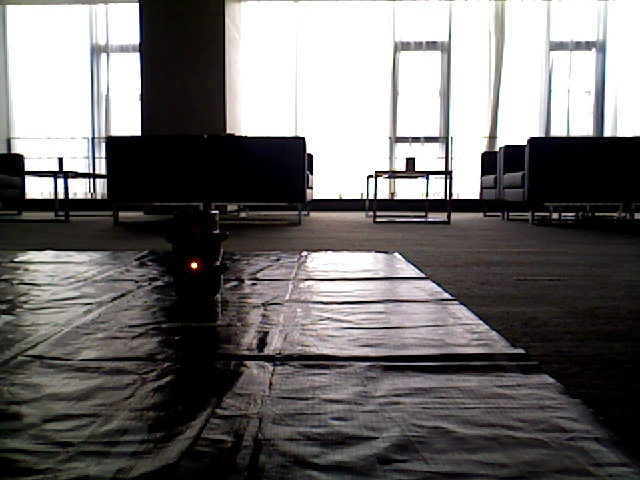yellow: (180, 212, 215, 302)
